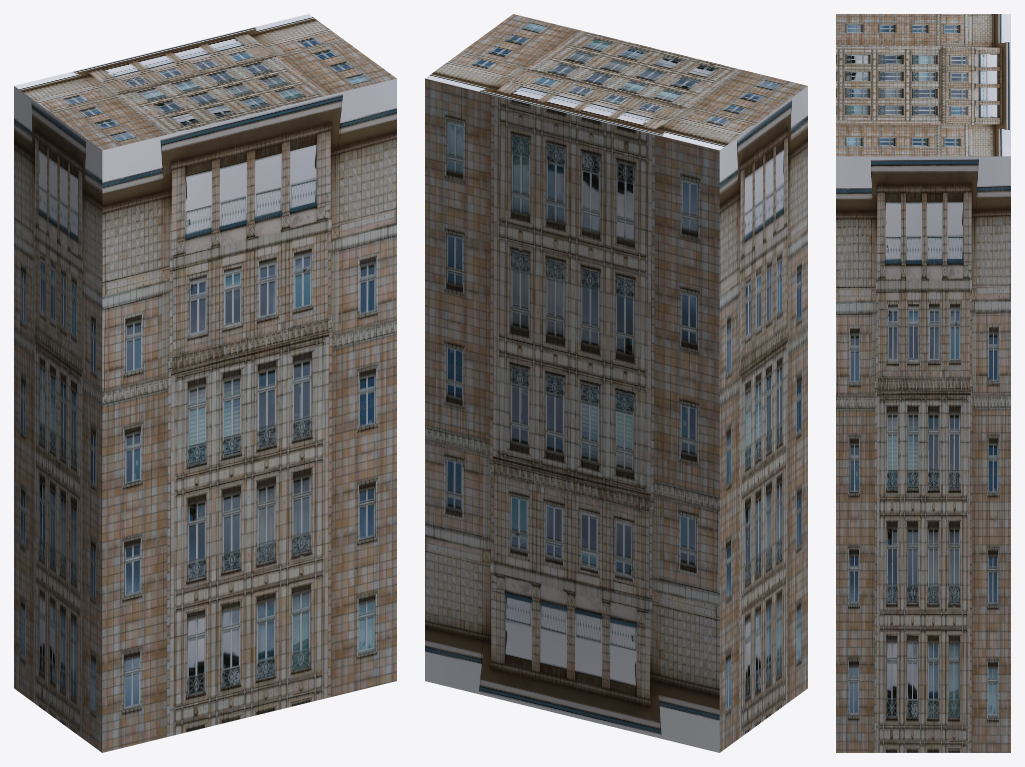
File: Building.fbx
3 views of the same model, side by side, from view 1: azimuth 30°, elevation 25°; view 2: azimuth 150°, elevation 25°; view 3: azimuth 270°, elevation 25° (orthographic).
Parts seen in each view (by area): view 1: Building; view 2: Building; view 3: Building.
Boxes of the visible parts, bbox=[...] form: Building: bbox=[14, 14, 396, 752]; Building: bbox=[425, 14, 807, 752]; Building: bbox=[836, 14, 1010, 752].
Bounding box in the file's own units: 2270 × 4436 × 1177.
1 material, 1 textured.
